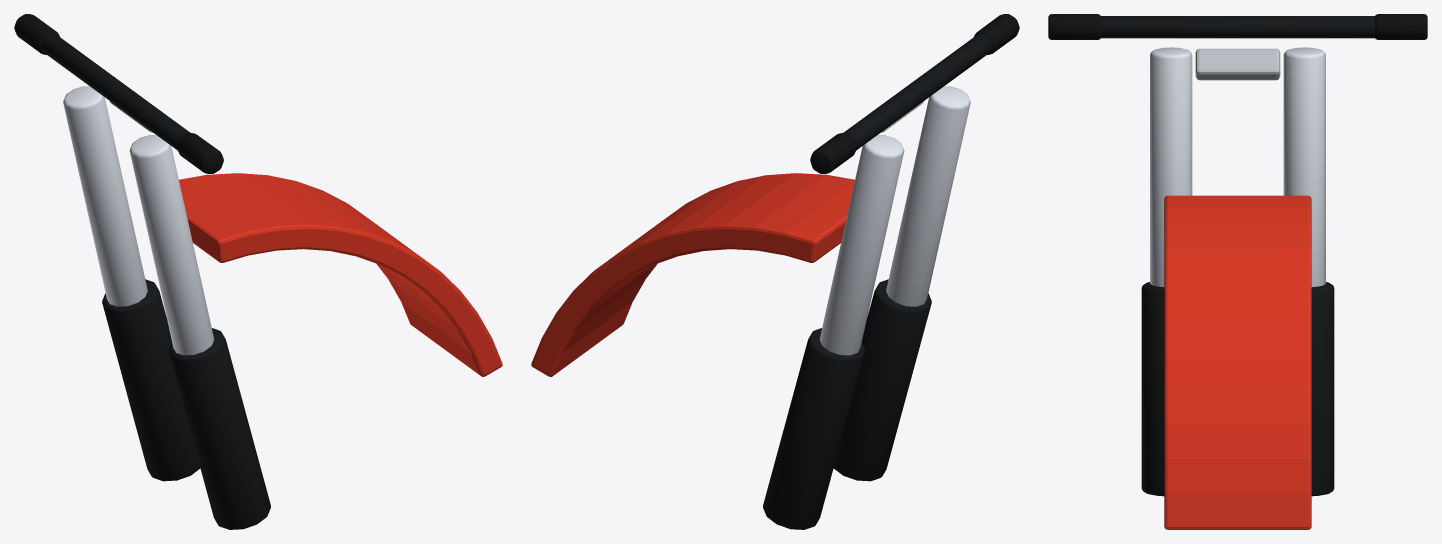
File: bike_fork.obj
3 views of the same model, side by side, from view 1: azimuth 30°, elevation 25°; view 2: azimuth 150°, elevation 25°; view 3: azimuth 270°, elevation 25° (orthographic).
Parts seen in each view (by area): view 1: Fork; view 2: Fork; view 3: Fork.
Part boxes in pixels (x1=…): Fork: x1=14, y1=14, x2=502, y2=529; Fork: x1=531, y1=14, x2=1019, y2=529; Fork: x1=1048, y1=14, x2=1427, y2=529.
Bounding box in the file's own units: 0.6071 × 0.6887 × 0.54.
